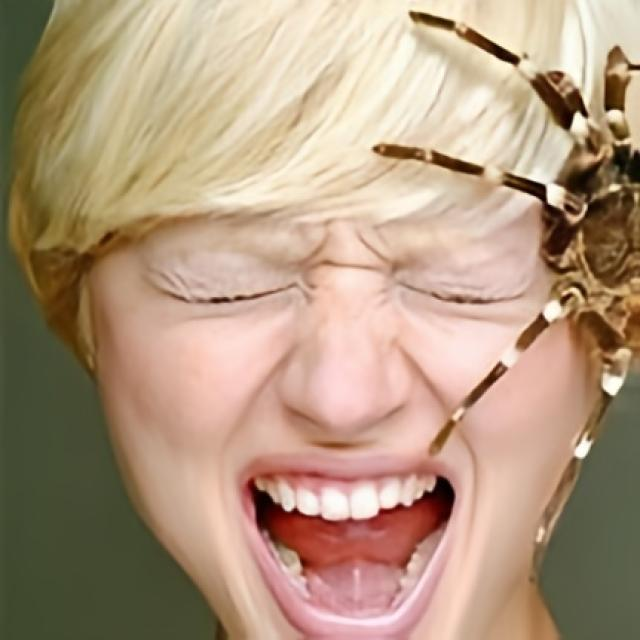Fear: (85, 26, 622, 640)
